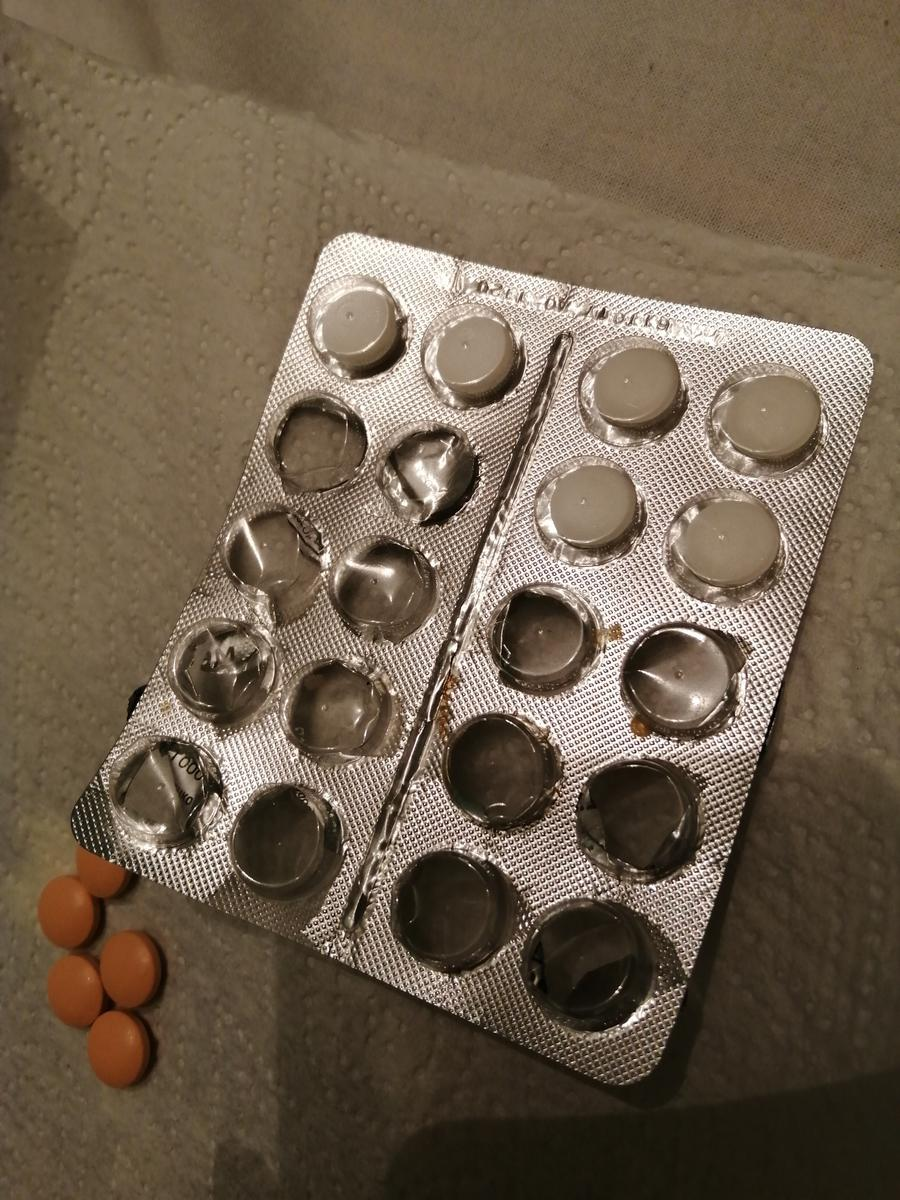tablet: (679, 498, 788, 593), (725, 365, 823, 464), (587, 343, 682, 432), (551, 464, 638, 553), (436, 313, 516, 397), (321, 288, 399, 361), (97, 926, 161, 1013), (85, 1008, 149, 1090), (36, 878, 96, 952), (49, 953, 104, 1028), (74, 833, 135, 897)
